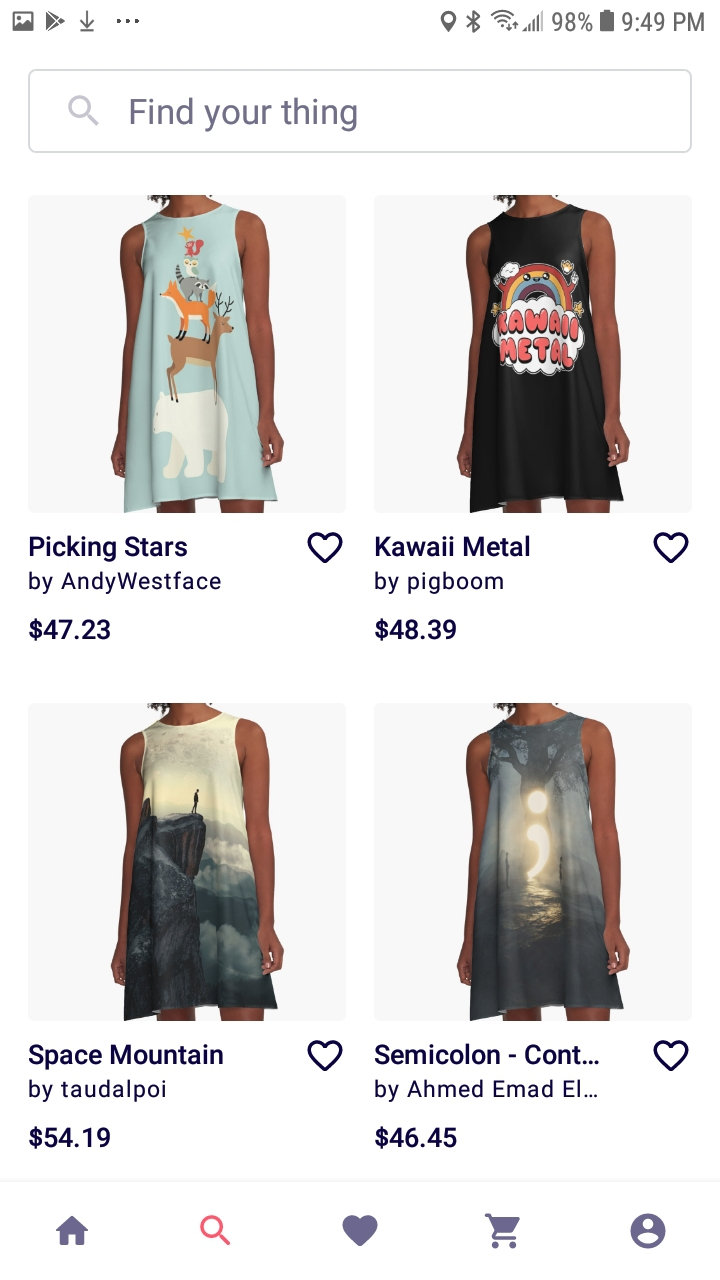EditText: (28, 70, 692, 154)
Icon: (484, 1213, 520, 1249), (630, 1213, 666, 1249), (307, 1039, 344, 1072), (308, 532, 344, 564), (342, 1215, 378, 1247), (653, 1040, 689, 1071), (654, 532, 689, 563), (57, 1216, 90, 1246), (200, 1214, 231, 1245), (69, 95, 99, 127)
Image: (374, 703, 692, 1021), (29, 704, 346, 1022), (375, 196, 692, 514), (30, 196, 347, 514)
Text: (375, 1043, 599, 1102), (29, 535, 222, 595), (29, 1044, 224, 1103), (375, 535, 530, 595), (130, 97, 358, 132), (29, 1126, 111, 1150), (375, 618, 457, 642), (30, 618, 112, 642), (376, 1126, 457, 1149)
UpperTaskBar: (1, 1, 720, 34)
